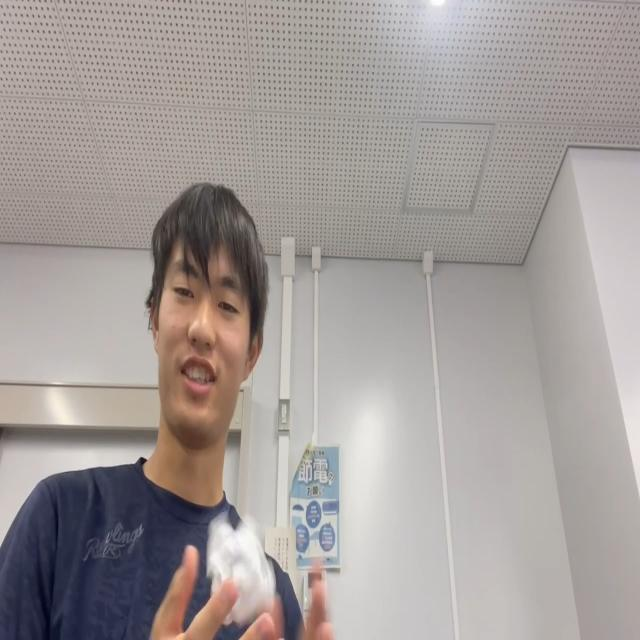paper: (205, 514, 275, 626)
